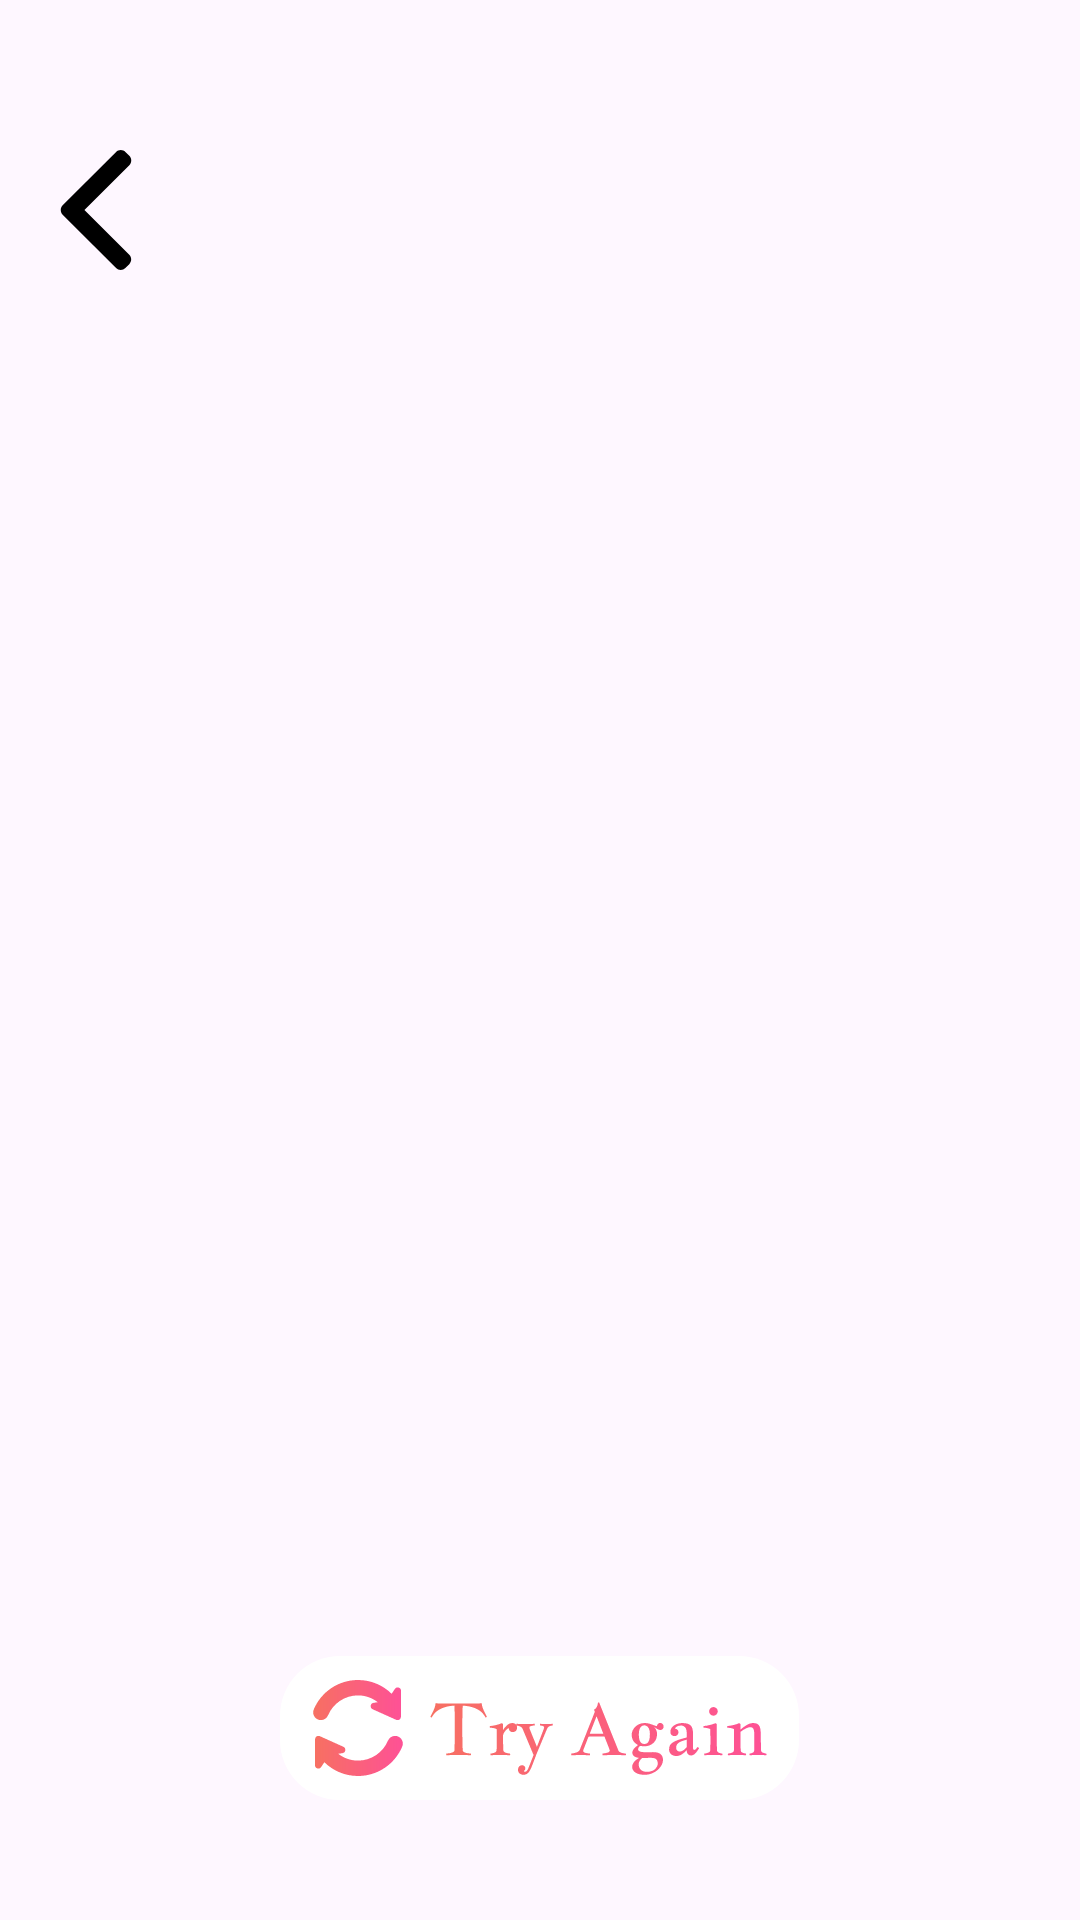

Icon bounding boxes for this 1080x1920 phone screenshot, format rect(x1, y1, x2, y2):
back: rect(60, 150, 132, 270)
